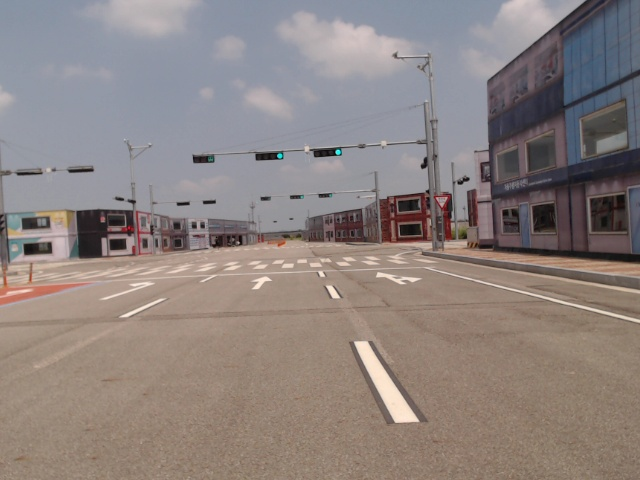straight_green_4: (314, 148, 342, 159), (255, 152, 283, 160), (291, 195, 305, 199), (320, 194, 332, 198)
